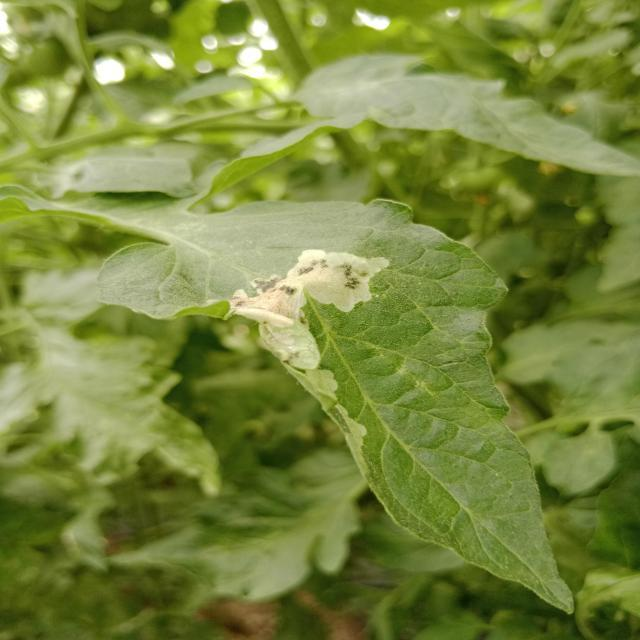Tuta absoluta: (223, 205, 483, 474)
